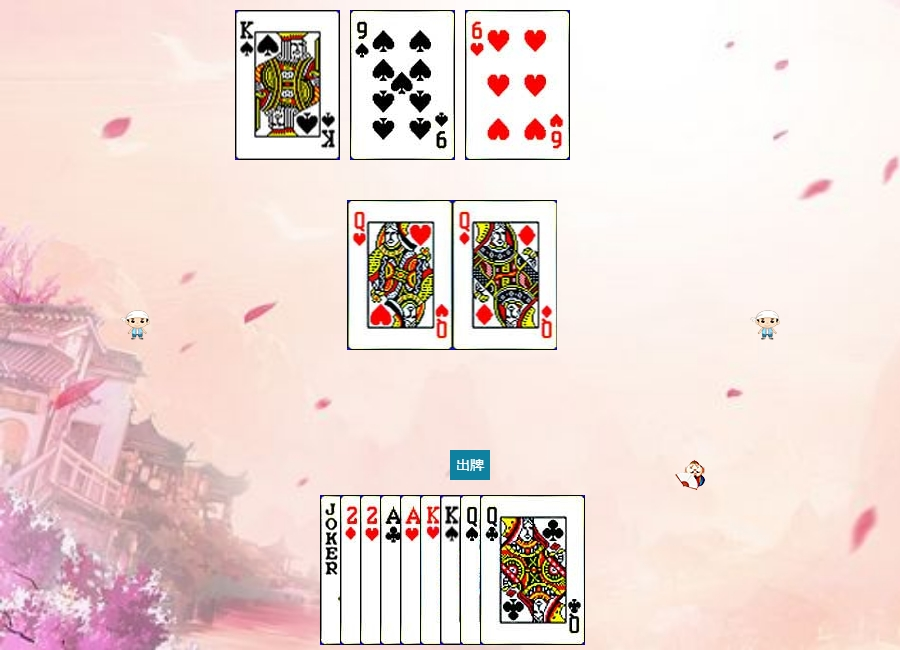12~1: (453, 200, 558, 350)
12~2: (480, 495, 585, 645)
12~3: (348, 200, 453, 350)
12~4: (460, 495, 565, 645)
13~3: (420, 495, 525, 645)
13~4: (235, 10, 340, 160), (440, 495, 545, 645)
14~2: (380, 495, 485, 645)
14~3: (400, 495, 505, 645)
15~1: (340, 495, 445, 645)
15~3: (360, 495, 465, 645)
17~3: (320, 495, 425, 645)
6~3: (465, 10, 570, 160)
9~4: (350, 10, 455, 160)
